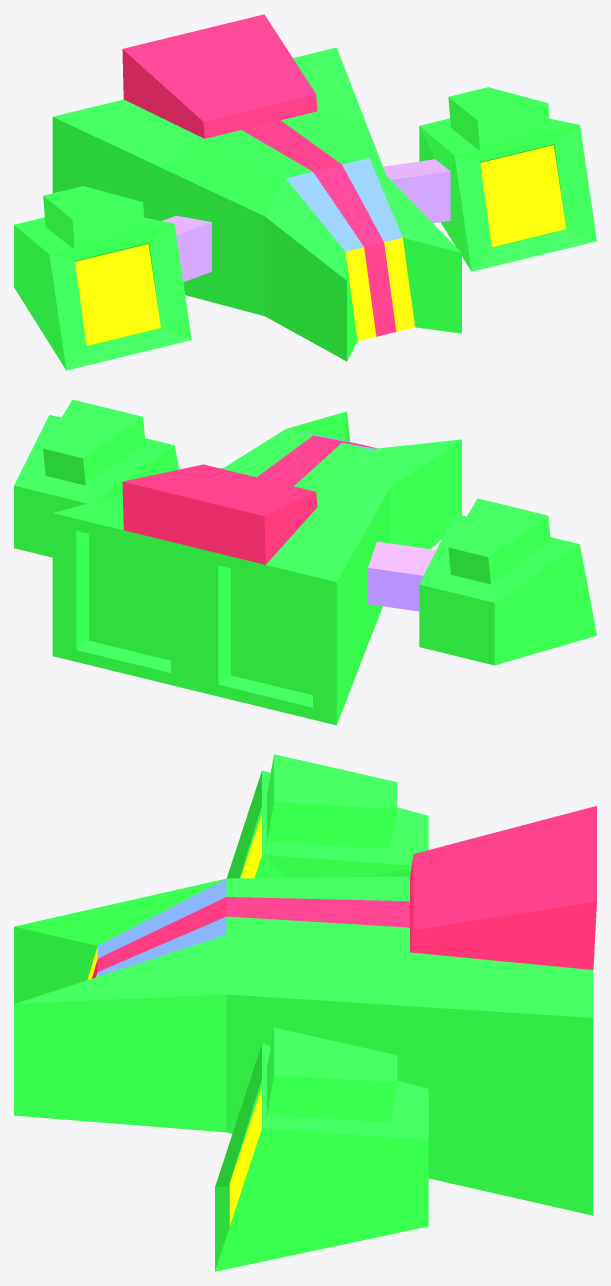
The model's file is Small_enemies_1.fbx.
3 renders of one model, top to bottom at view 1: azimuth 30°, elevation 25°; view 2: azimuth 150°, elevation 25°; view 3: azimuth 270°, elevation 25°, orthographic. The views are drawn at different scales.
Parts seen in each view (by area): view 1: Cube.002; view 2: Cube.002; view 3: Cube.002.
Boxes of the visible parts, x1,y1,x2,y2 form: Cube.002: (14, 14, 596, 370); Cube.002: (14, 399, 596, 725); Cube.002: (14, 754, 596, 1271).
Size of the model in its own units: 262 by 91.1 by 181.
